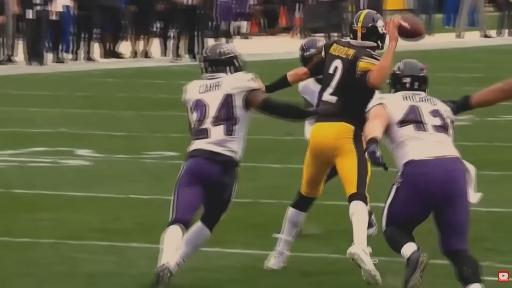Helmet: (350, 10, 386, 49), (199, 43, 243, 74), (389, 60, 427, 92), (300, 38, 325, 66)
Jersey: (367, 92, 459, 169), (183, 72, 260, 161), (309, 40, 379, 130), (299, 79, 321, 107)
Player: (154, 43, 316, 287), (266, 10, 399, 284), (364, 60, 511, 287), (265, 191, 310, 269)
